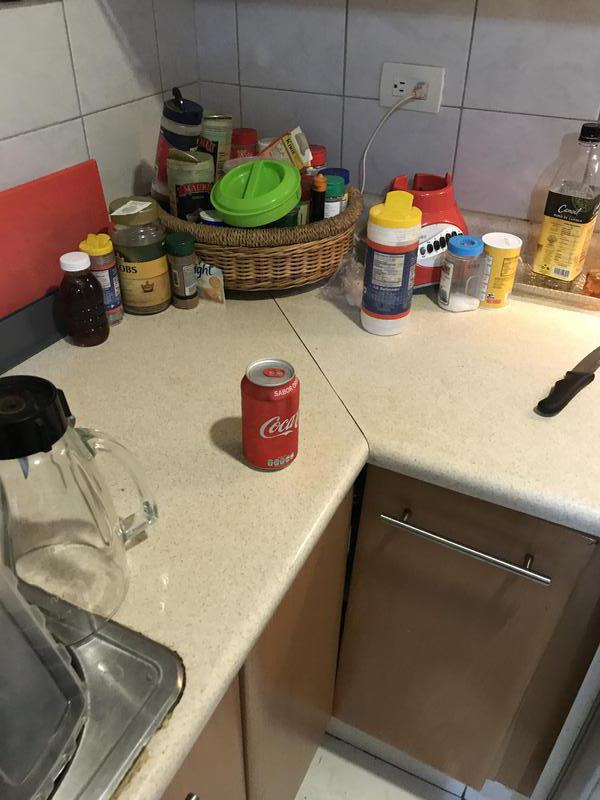coca_cola: (237, 359, 299, 468)
